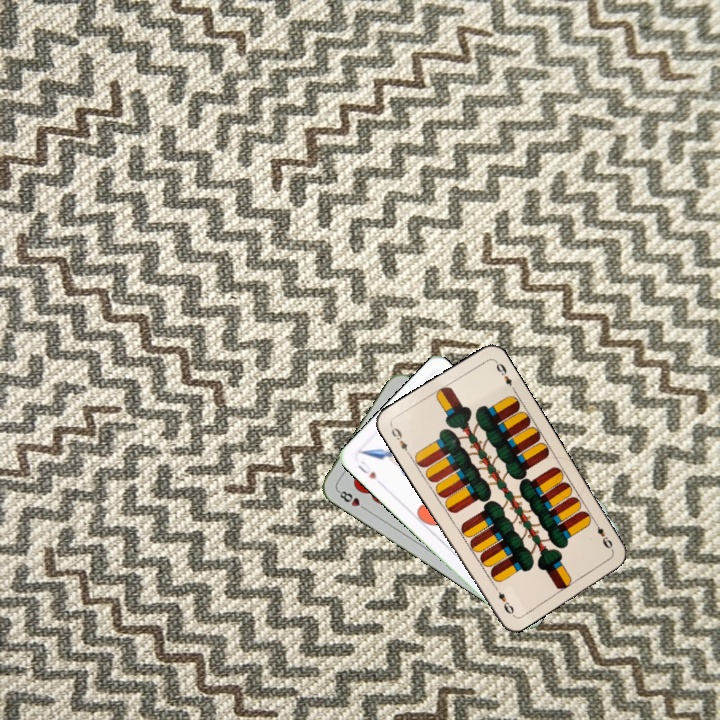E9: (387, 422, 413, 458), (590, 517, 615, 551)
H8: (334, 486, 370, 513)
HU: (354, 457, 379, 482)
